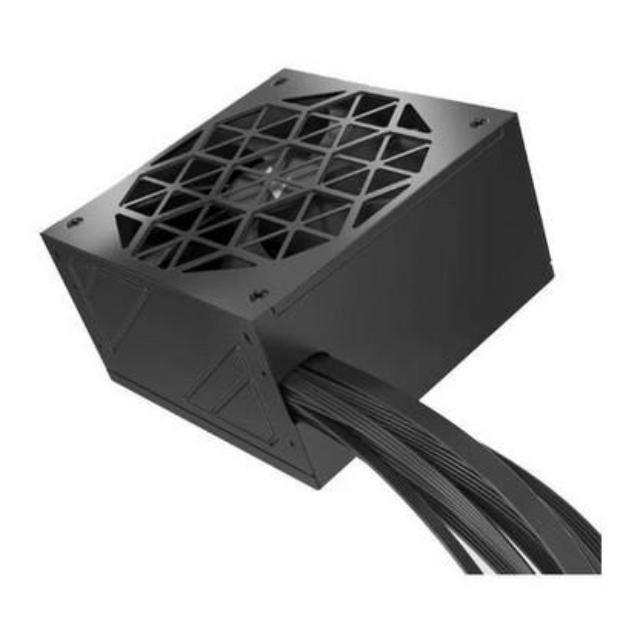PSU: (31, 54, 563, 498)
